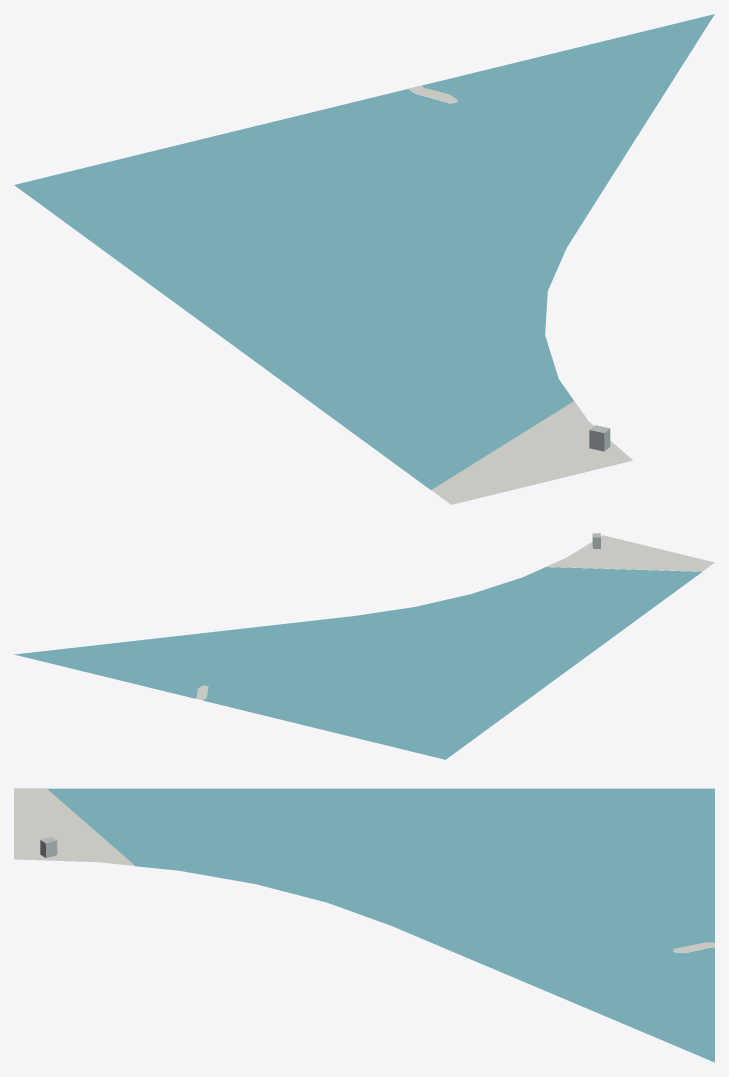
3 views of the same model, one above another, from view 1: azimuth 30°, elevation 25°; view 2: azimuth 150°, elevation 25°; view 3: azimuth 270°, elevation 25° (orthographic). The views are drawn at different scales.
Parts seen in each view (by area): view 1: city; view 2: city; view 3: city.
Part boxes in pixels (x1=…): city: x1=14, y1=14, x2=714, y2=504; city: x1=14, y1=533, x2=714, y2=759; city: x1=14, y1=788, x2=714, y2=1062.
Size of the model in its own units: 463 by 11.78 by 500.
